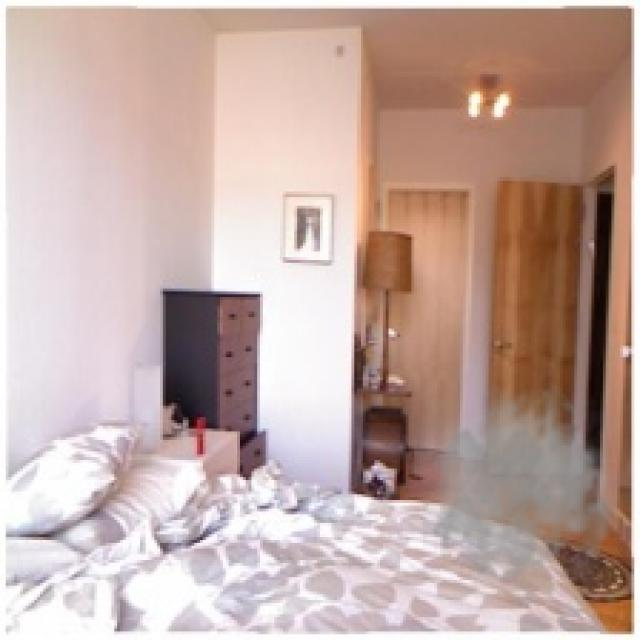smoke: (423, 380, 628, 589)
